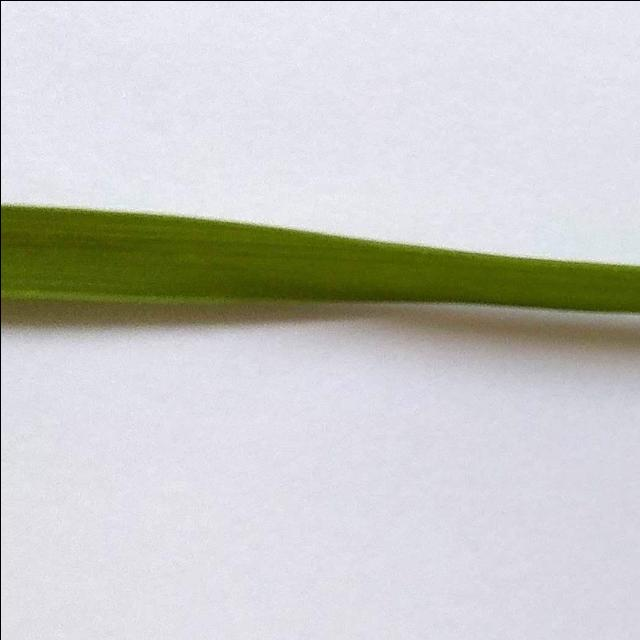healthy: (0, 174, 640, 368)
